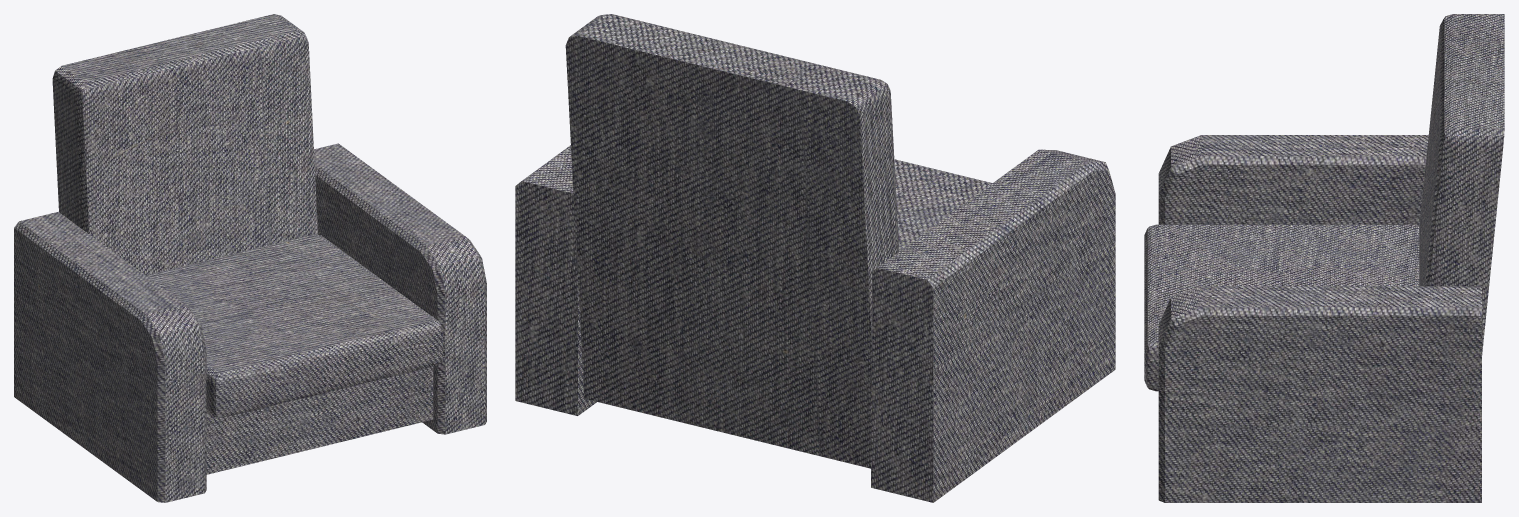
The model's file is armchair.fbx.
3 views of the same model, side by side, from view 1: azimuth 30°, elevation 25°; view 2: azimuth 150°, elevation 25°; view 3: azimuth 270°, elevation 25° (orthographic). The views are drawn at different scales.
Parts seen in each view (by area): view 1: pCube7; view 2: pCube7; view 3: pCube7.
Boxes of the visible parts, box(x1,y1,x2,y2) form: pCube7: box(14, 14, 486, 502); pCube7: box(515, 14, 1115, 502); pCube7: box(1144, 14, 1504, 502).
Size of the model in its own units: 2.07 by 1.86 by 1.78.
